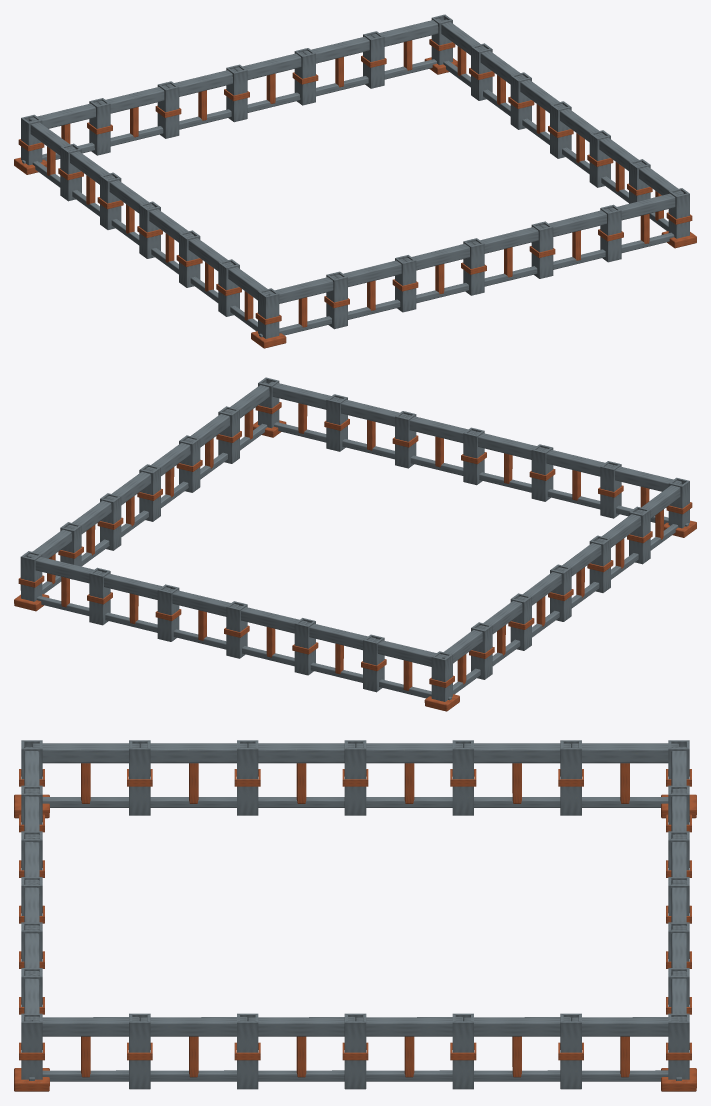
The picture shows the model from 3 angles, top to bottom: view 1: azimuth 30°, elevation 25°; view 2: azimuth 150°, elevation 25°; view 3: azimuth 270°, elevation 25°; orthographic projection. The views are drawn at different scales.
Parts seen in each view (by area): view 1: Tier 0 side 0 post 4, Tier 0 side 2 post 4, Tier 0 side 0 post 2, Tier 0 side 2 post 1, Tier 0 side 2 post 3, Tier 0 side 0 post 5, Tier 0 side 2 post 5, Tier 0 side 0 post 1, Tier 0 side 0 post 3, Tier 0 side 2 post 2, Tier 0 bay 2-0-2 box girder, Tier 0 bay 2-0-4 box girder (+36 smaller); view 2: Tier 0 side 2 post 2, Tier 0 side 0 post 2, Tier 0 side 2 post 4, Tier 0 side 2 post 1, Tier 0 side 0 post 3, Tier 0 side 0 post 5, Tier 0 side 0 post 1, Tier 0 side 2 post 5, Tier 0 side 2 post 3, Tier 0 side 0 post 4, Tier 0 bay 0-0-3 box girder, Tier 0 bay 0-0-5 box girder (+36 smaller); view 3: Tier 0 bay 3-0-2 box girder, Tier 0 bay 3-0-3 box girder, Tier 0 bay 3-0-1 box girder, Tier 0 bay 3-0-4 box girder, Tier 0 bay 3-0-5 box girder, Tier 0 bay 3-0-0 box girder, Tier 0 bay 1-0-1 box girder, Tier 0 bay 1-0-2 box girder, Tier 0 bay 1-0-4 box girder, Tier 0 bay 1-0-3 box girder, Tier 0 bay 1-0-5 box girder, Tier 0 bay 1-0-0 box girder (+38 smaller).
Boxes of the visible parts, <box> form: Tier 0 side 0 post 4: <box>531,221,553,278</box>; Tier 0 side 2 post 4: <box>157,81,179,138</box>; Tier 0 side 0 post 2: <box>395,255,416,312</box>; Tier 0 side 2 post 1: <box>363,31,384,88</box>; Tier 0 side 2 post 3: <box>226,64,247,122</box>; Tier 0 side 0 post 5: <box>600,204,621,262</box>; Tier 0 side 2 post 5: <box>89,98,110,155</box>; Tier 0 side 0 post 1: <box>326,271,347,329</box>; Tier 0 side 0 post 3: <box>463,238,484,295</box>; Tier 0 side 2 post 2: <box>294,48,315,105</box>; Tier 0 bay 2-0-2 box girder: <box>234,52,305,79</box>; Tier 0 bay 2-0-4 box girder: <box>97,85,168,113</box>; Tier 0 side 2 post 2: <box>157,584,179,641</box>; Tier 0 side 0 post 2: <box>531,444,553,501</box>; Tier 0 side 2 post 4: <box>294,618,315,675</box>; Tier 0 side 2 post 1: <box>89,567,110,625</box>; Tier 0 side 0 post 3: <box>463,427,484,485</box>; Tier 0 side 0 post 5: <box>326,394,347,451</box>; Tier 0 side 0 post 1: <box>600,461,621,518</box>; Tier 0 side 2 post 5: <box>363,634,384,692</box>; Tier 0 side 2 post 3: <box>226,601,247,658</box>; Tier 0 side 0 post 4: <box>395,411,416,468</box>; Tier 0 bay 0-0-3 box girder: <box>405,415,476,442</box>; Tier 0 bay 0-0-5 box girder: <box>268,381,339,409</box>; Tier 0 bay 3-0-2 box girder: <box>355,743,463,763</box>; Tier 0 bay 3-0-3 box girder: <box>247,743,355,763</box>; Tier 0 bay 3-0-1 box girder: <box>463,743,571,763</box>; Tier 0 bay 3-0-4 box girder: <box>139,743,247,763</box>; Tier 0 bay 3-0-5 box girder: <box>32,743,139,763</box>; Tier 0 bay 3-0-0 box girder: <box>571,743,678,763</box>; Tier 0 bay 1-0-1 box girder: <box>139,1017,247,1036</box>; Tier 0 bay 1-0-2 box girder: <box>247,1017,355,1036</box>; Tier 0 bay 1-0-4 box girder: <box>463,1017,571,1036</box>; Tier 0 bay 1-0-3 box girder: <box>355,1017,463,1036</box>; Tier 0 bay 1-0-5 box girder: <box>571,1017,678,1036</box>; Tier 0 bay 1-0-0 box girder: <box>32,1017,139,1036</box>.
Bounding box in the file's own units: 2.85 × 0.3067 × 2.85.
Materials: 2 (2 with a texture image).
